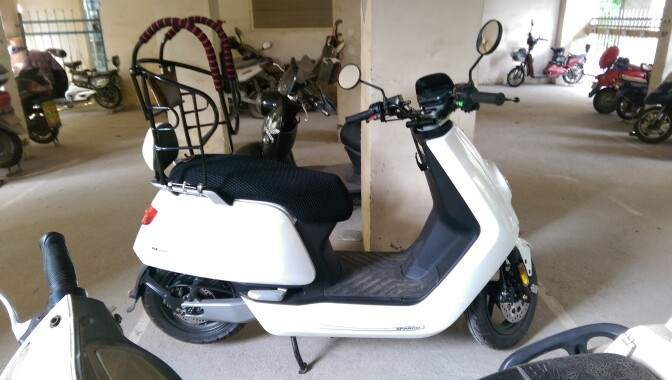电动车: (111, 20, 553, 361)
